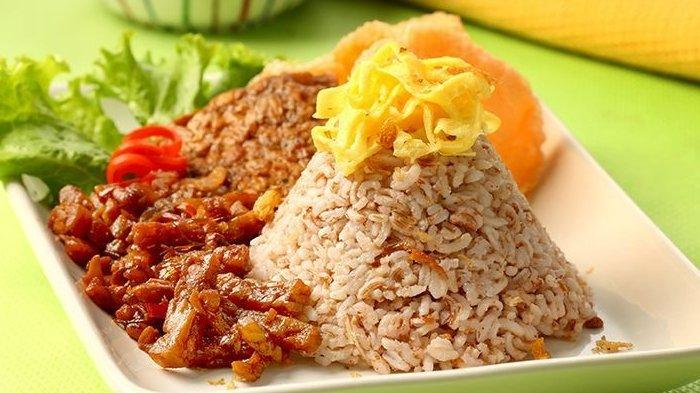Nasi Merah: (241, 75, 583, 358)
